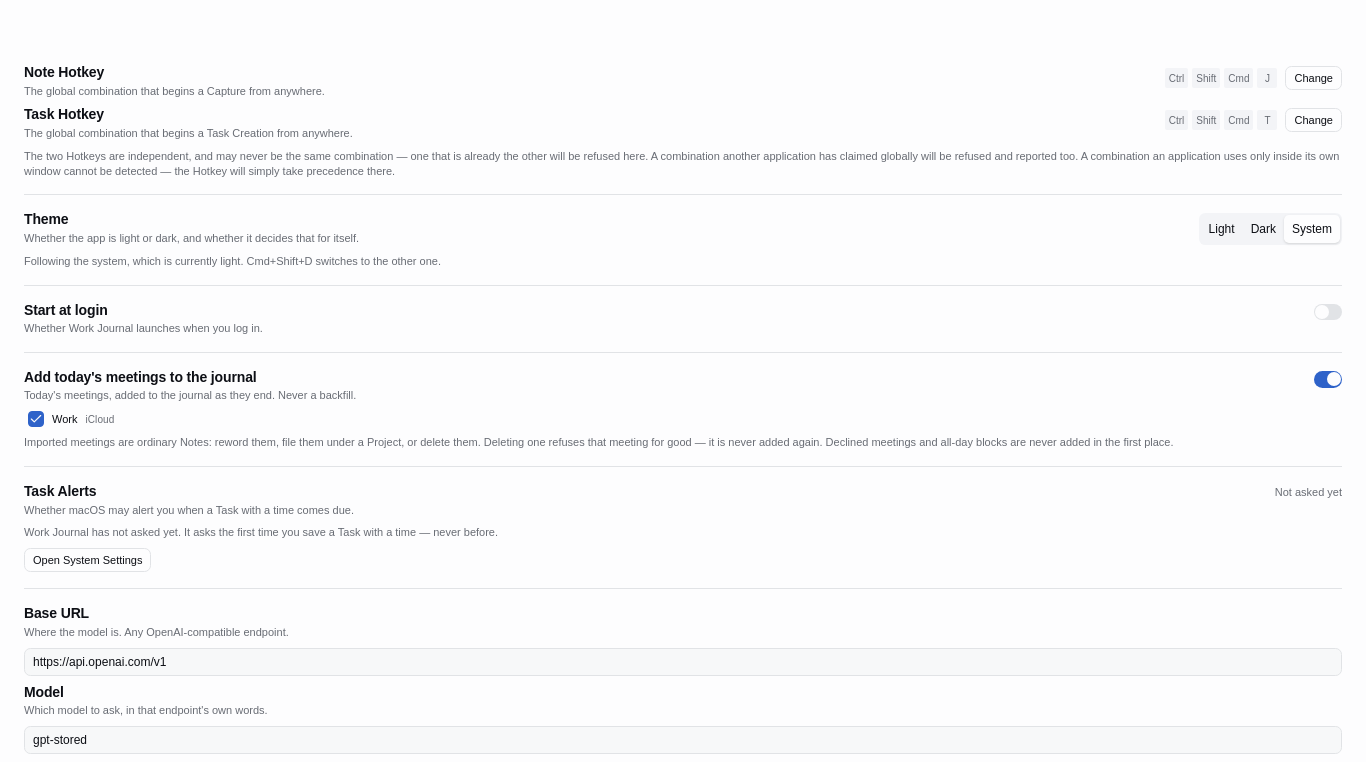
it: the Import switch › keeps a calendar tick after its save failed
The width and height of the screenshot is (1366, 762).
Click the checkbox named "Work": (36, 419) [28, 411, 44, 427]
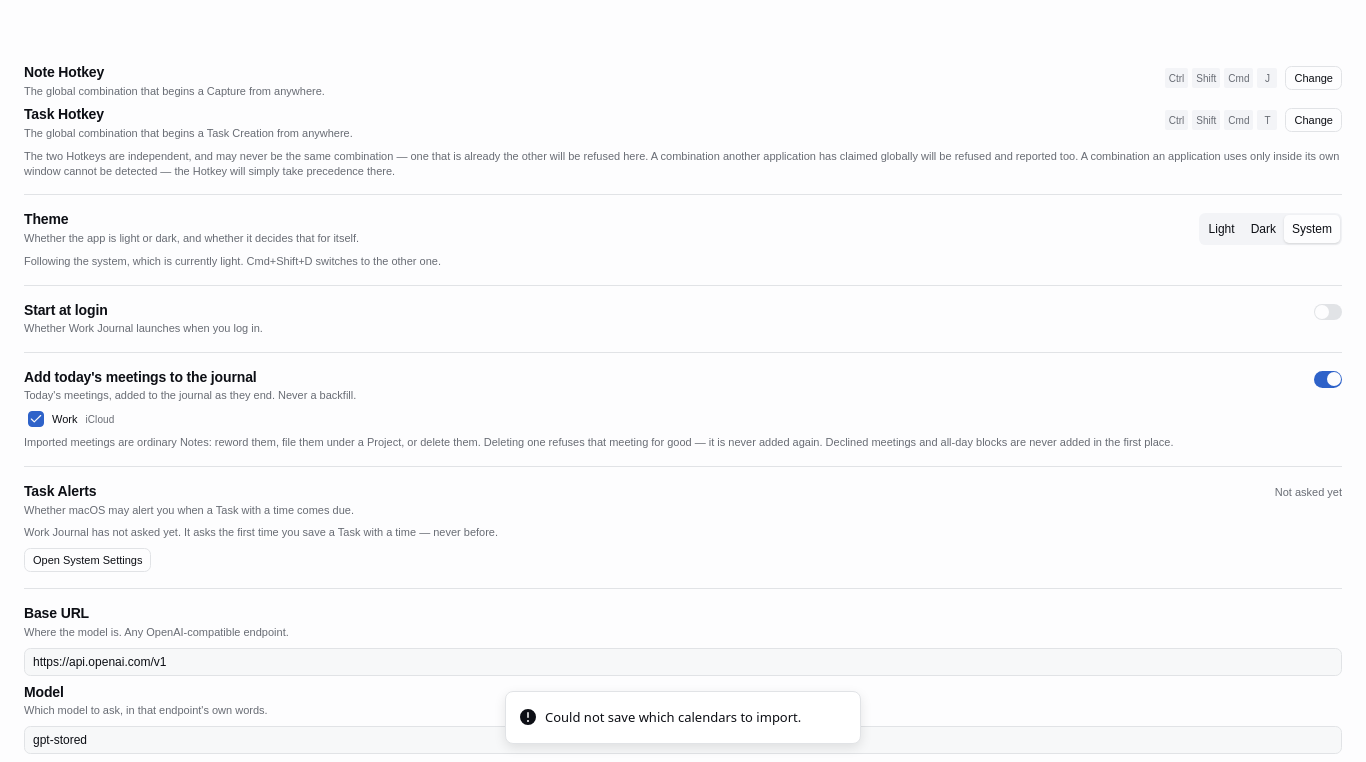
Expected: the text "Could not save which calendars to import." is shown, [545, 708, 801, 727]
